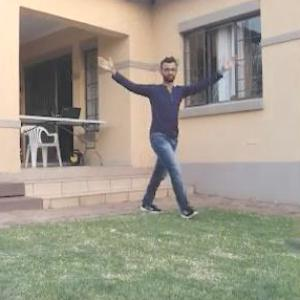takeoff: (89, 55, 234, 218)
